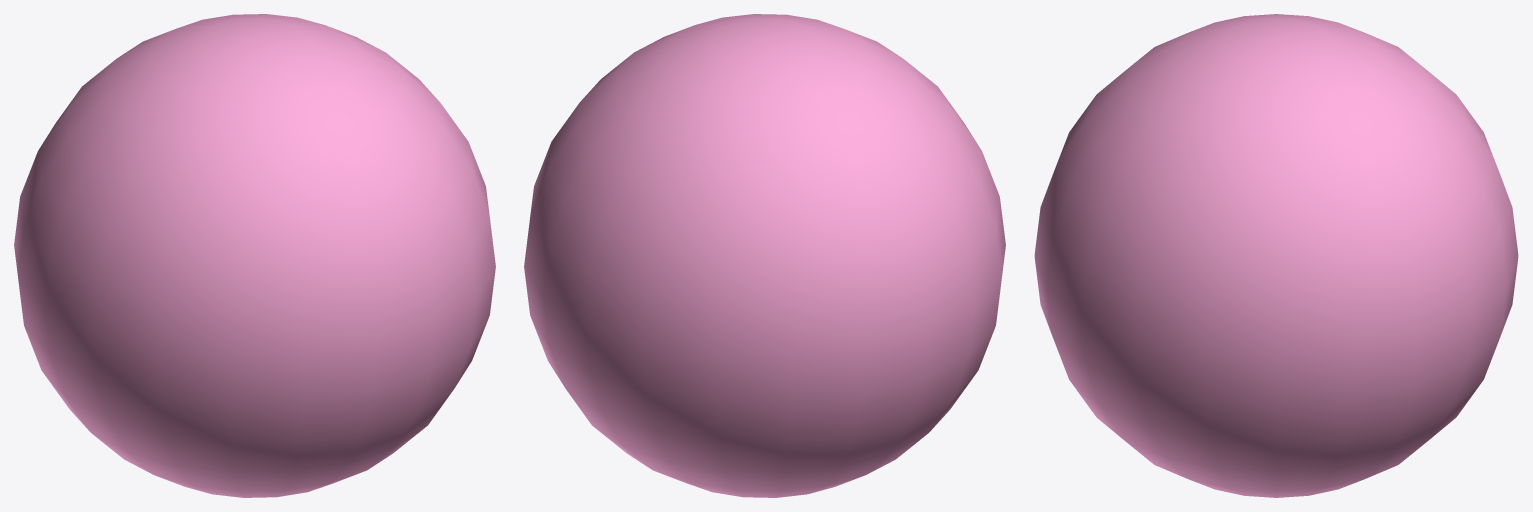
Rendered from balloon_pink.glb.
3 renders of one model, left to right at view 1: azimuth 30°, elevation 25°; view 2: azimuth 150°, elevation 25°; view 3: azimuth 270°, elevation 25°, orthographic.
Parts seen in each view (by area): view 1: primitive; view 2: primitive; view 3: primitive.
Part boxes in pixels (bbox=[...]): primitive: bbox=[14, 14, 495, 497]; primitive: bbox=[524, 14, 1005, 497]; primitive: bbox=[1034, 14, 1518, 497].
Size of the model in its own units: 0.24 by 0.24 by 0.24.
